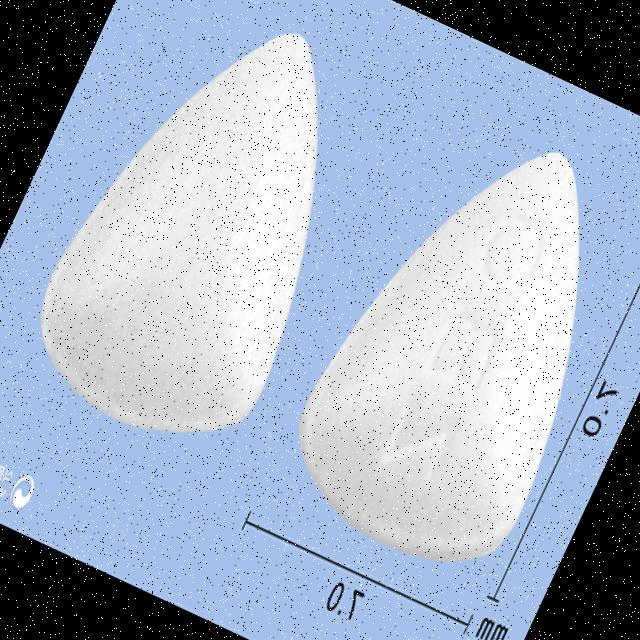Arava: (0, 0, 412, 478), (258, 98, 640, 603)
